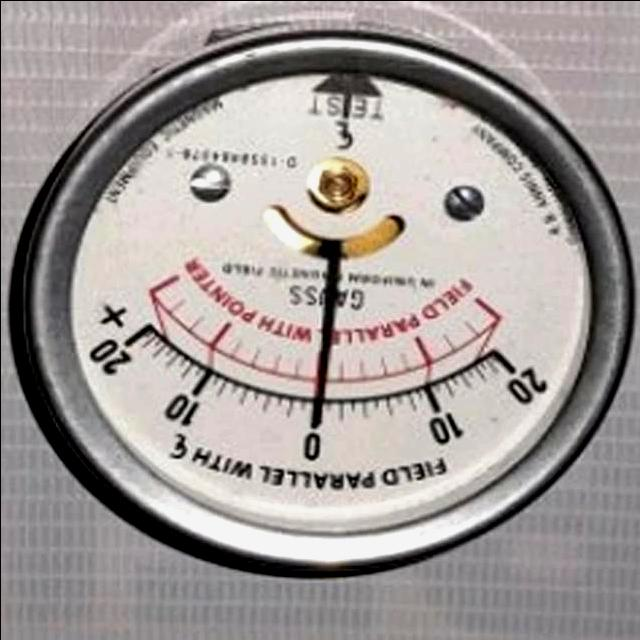Needle_Tip: (267, 372, 361, 457)
Needle_base: (291, 132, 382, 238)
max_value: (77, 302, 145, 394)
min_value: (480, 325, 562, 430)
